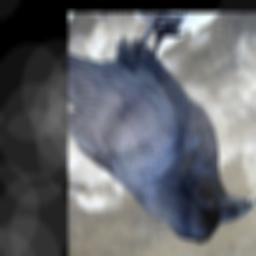Crow: (69, 13, 255, 243)
